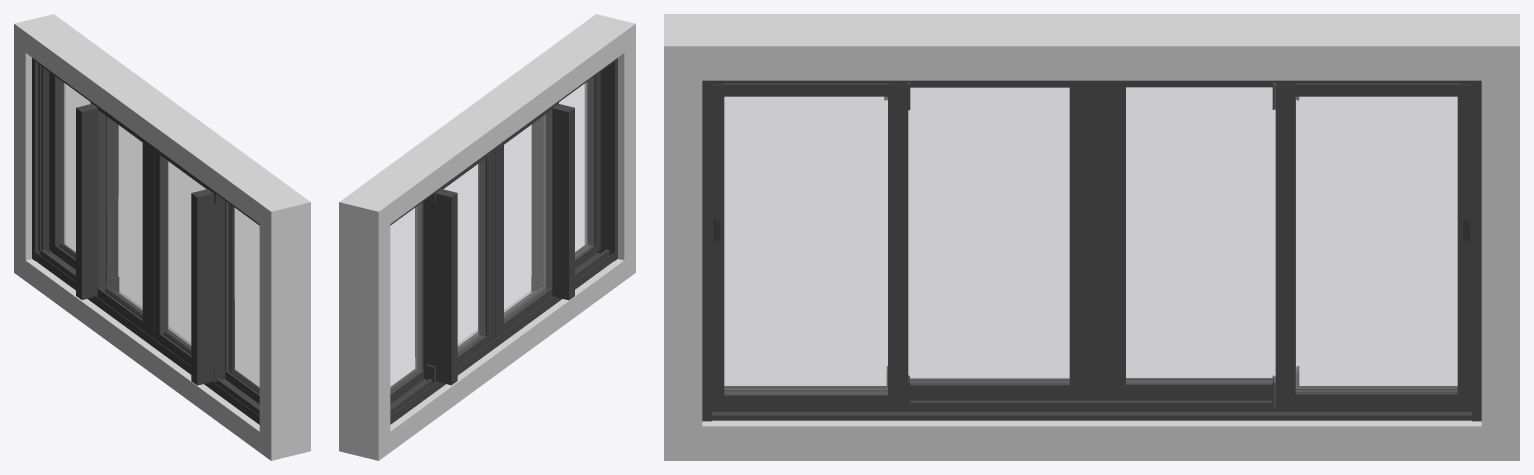
The model's file is WOW_Variant_01.glb.
The picture shows the model from 3 angles, left to right: view 1: azimuth 30°, elevation 25°; view 2: azimuth 150°, elevation 25°; view 3: azimuth 270°, elevation 25°; orthographic projection. The views are drawn at different scales.
Parts seen in each view (by area): view 1: Window_frame.002, Window_panel_04.002, Window_panel_01.002, Window_panel_03.002, Window_rail.002, Window_panel_02.002; view 2: Window_frame.002, Window_panel_01.002, Window_panel_04.002, Window_panel_02.002, Window_rail.002, Window_panel_03.002; view 3: Window_frame.002, Window_panel_04.002, Window_panel_01.002, Window_panel_02.002, Window_panel_03.002, Window_rail.002.
Part boxes in pixels (x1,y1,x2,y2): Window_frame.002: (14,14,310,460); Window_panel_04.002: (49,72,119,299); Window_panel_01.002: (191,188,259,403); Window_panel_03.002: (97,107,149,334); Window_rail.002: (32,58,259,424); Window_panel_02.002: (154,149,207,364); Window_frame.002: (339,14,635,460); Window_panel_01.002: (531,72,600,300); Window_panel_04.002: (390,189,457,403); Window_panel_02.002: (500,107,552,334); Window_rail.002: (390,58,617,424); Window_panel_03.002: (441,149,494,365); Window_frame.002: (664,14,1519,460); Window_panel_04.002: (1272,82,1472,408); Window_panel_01.002: (712,82,910,408); Window_panel_02.002: (908,85,1084,398); Window_panel_03.002: (1099,85,1275,398); Window_rail.002: (702,80,1481,421).
Bounding box in the file's own units: 0.5042 × 2.59 × 4.85.
Materials: 5 (1 with a texture image).
